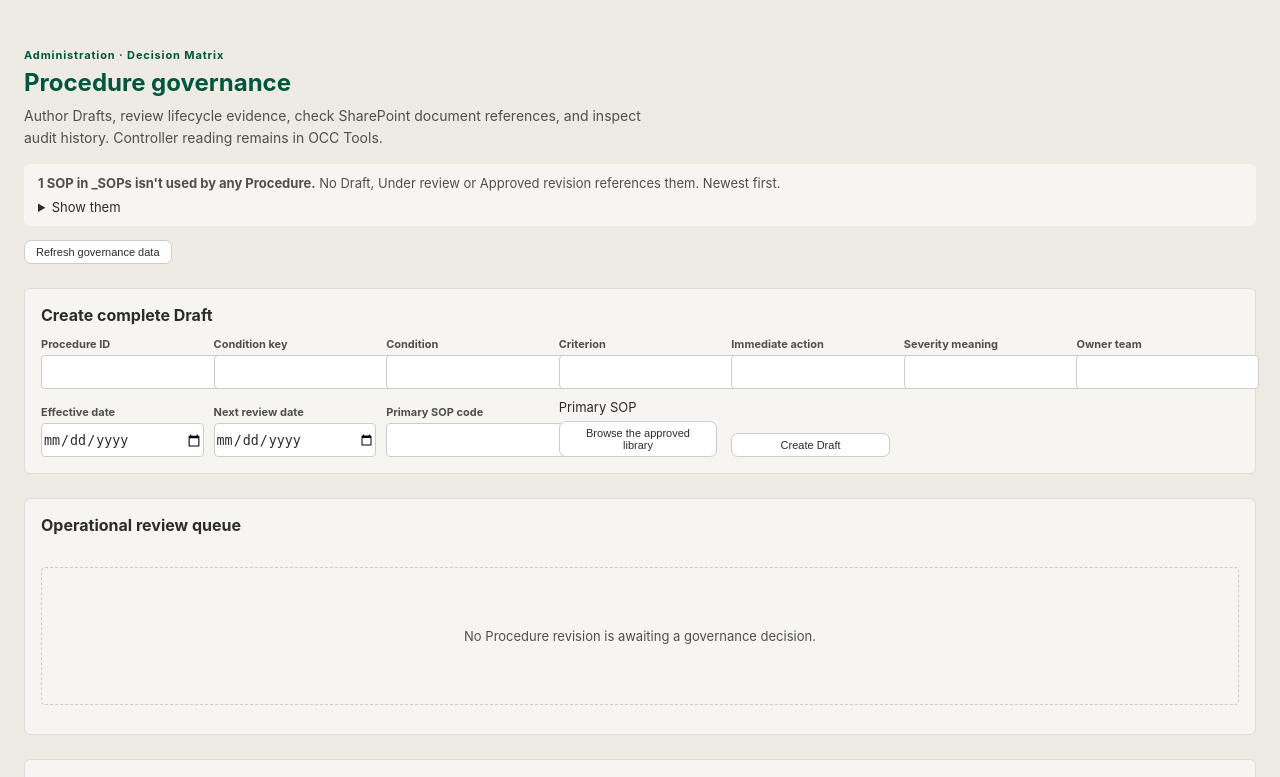
Test: SOPs no Procedure uses › starts a Draft with the SOP already chosen
Click the heading "Show them" at x=86, y=207, box [52,199,121,215]
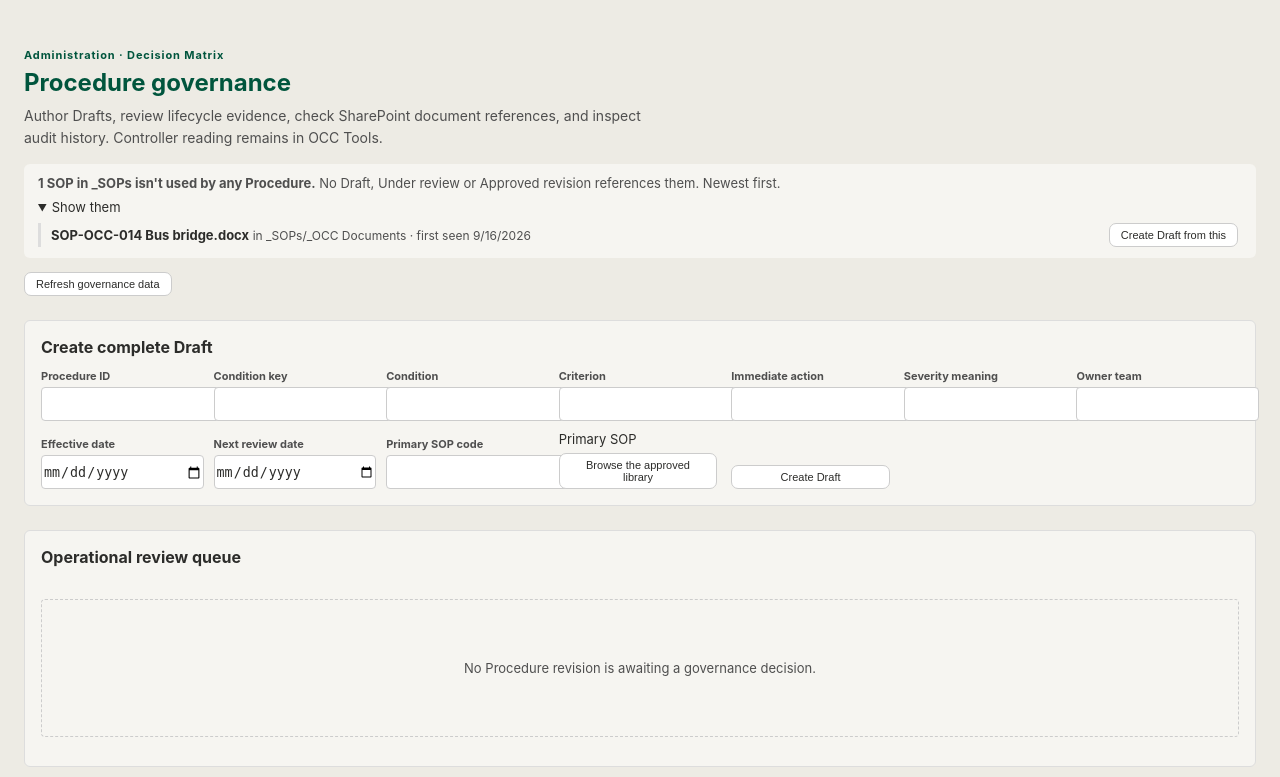
Click the button "Create Draft from this" at x=1173, y=235, box [1109,223,1238,247]
(page scrolled)
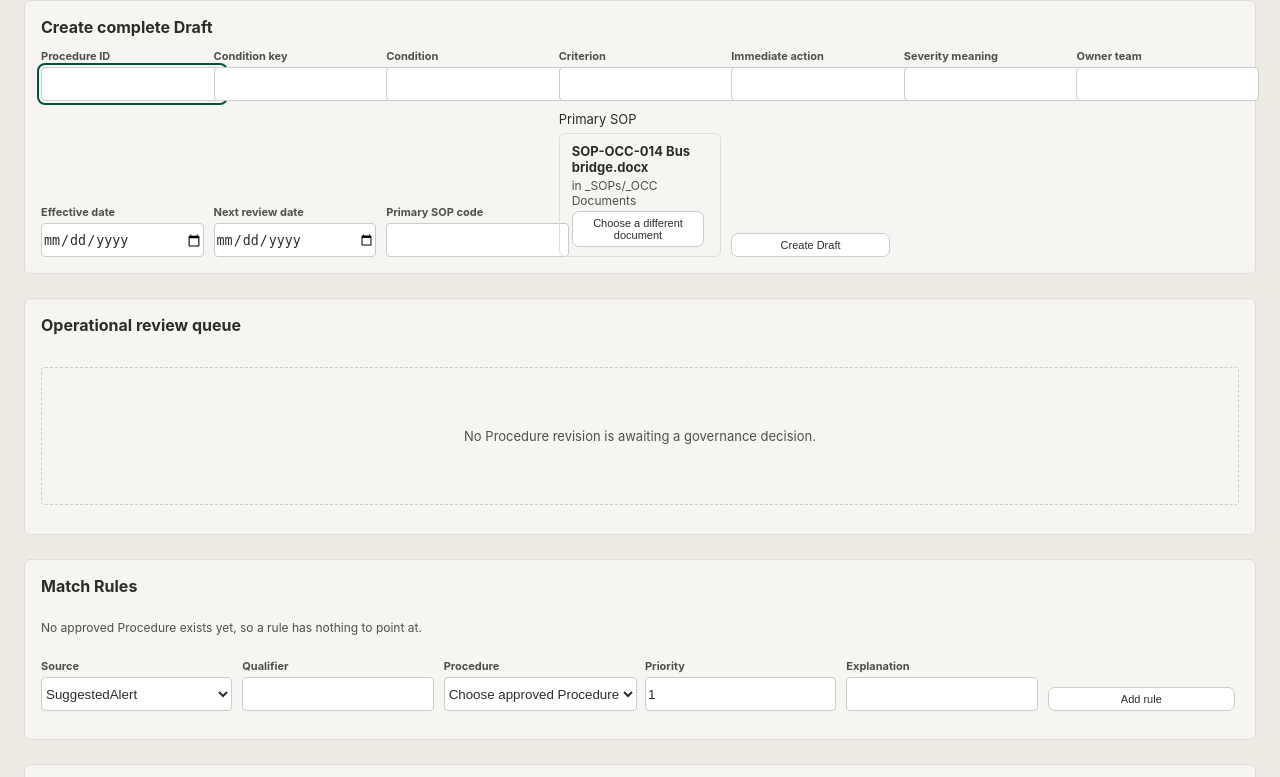
Expected: the button "Choose a different document" is shown, [572,211,704,247]
Expected: the text "SOP-OCC-014 Bus bridge.docx" is shown 2 times
Expected: the text "in _SOPs/_OCC Documents" is shown, [572,178,658,208]
